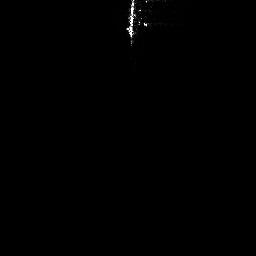ship: (123, 1, 147, 44)
